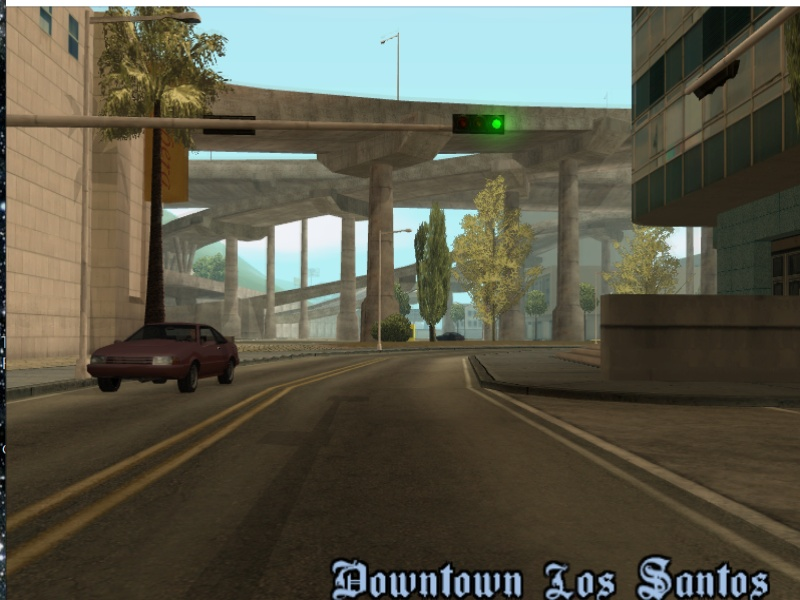pole: (379, 228, 384, 355)
vehicle: (82, 319, 247, 396), (434, 330, 465, 343)
